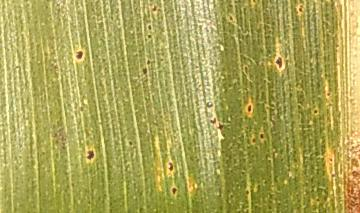tarspot: (83, 147, 97, 162), (274, 53, 285, 71), (243, 101, 255, 116), (125, 137, 137, 150), (164, 158, 174, 173), (139, 64, 150, 77), (225, 13, 236, 24), (149, 2, 159, 14), (322, 89, 334, 99), (258, 130, 267, 143), (217, 121, 225, 135), (311, 106, 321, 117), (75, 48, 84, 60), (249, 136, 259, 146), (170, 185, 179, 196), (143, 31, 154, 40), (208, 116, 217, 127), (296, 6, 306, 14), (146, 23, 154, 31)
